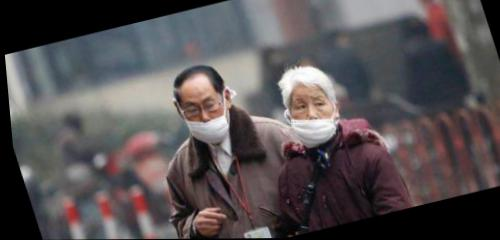WRONG: (175, 89, 234, 147), (281, 88, 337, 147)
